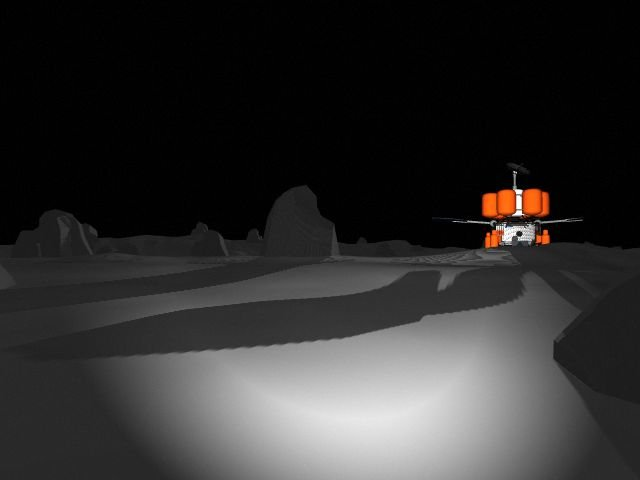homebase: (432, 160, 585, 258)
